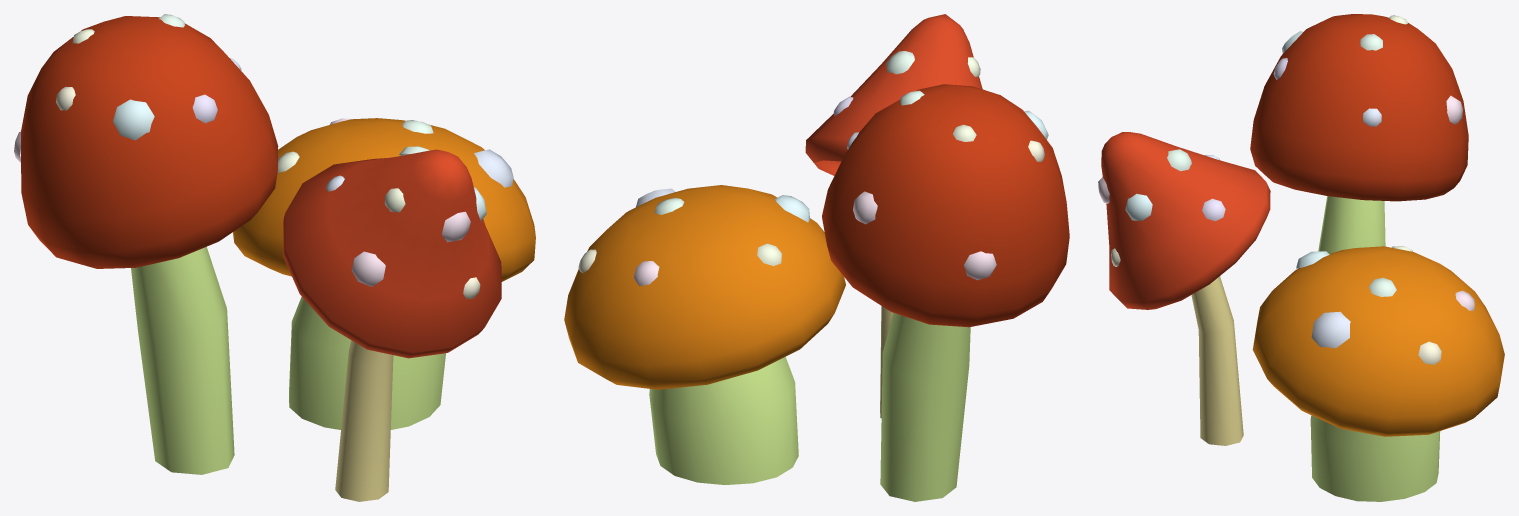
File: M_food.glb
3 views of the same model, side by side, from view 1: azimuth 30°, elevation 25°; view 2: azimuth 150°, elevation 25°; view 3: azimuth 270°, elevation 25° (orthographic). The views are drawn at different scales.
Parts seen in each view (by area): view 1: Mushroom.004_0 Universal_0; view 2: Mushroom.004_0 Universal_0; view 3: Mushroom.004_0 Universal_0.
Boxes of the visible parts, x1,y1,x2,y2 form: Mushroom.004_0 Universal_0: (14, 14, 535, 501); Mushroom.004_0 Universal_0: (564, 14, 1069, 501); Mushroom.004_0 Universal_0: (1098, 14, 1504, 501).
Size of the model in its own units: 0.325 by 0.2747 by 0.2817.
Materials: 1 (1 with a texture image).
